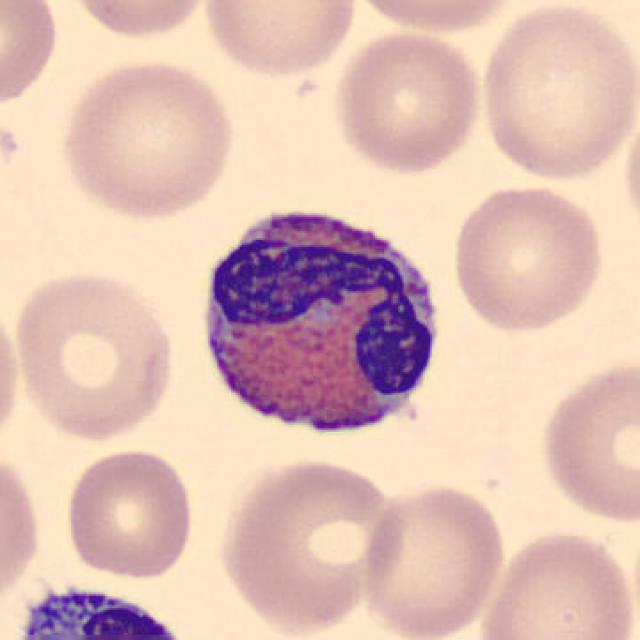Basophil: (3, 567, 213, 640)
Eosinophil: (185, 190, 455, 462)
RBC: (212, 453, 406, 637), (53, 55, 240, 224), (9, 265, 179, 446), (472, 0, 638, 183), (446, 180, 608, 335), (358, 482, 508, 638), (329, 27, 485, 176), (61, 444, 199, 582), (473, 525, 638, 640), (535, 354, 638, 529), (199, 0, 361, 79), (0, 440, 44, 613), (0, 0, 62, 115), (60, 0, 216, 42), (348, 0, 521, 37), (0, 293, 25, 453), (620, 99, 640, 240)
